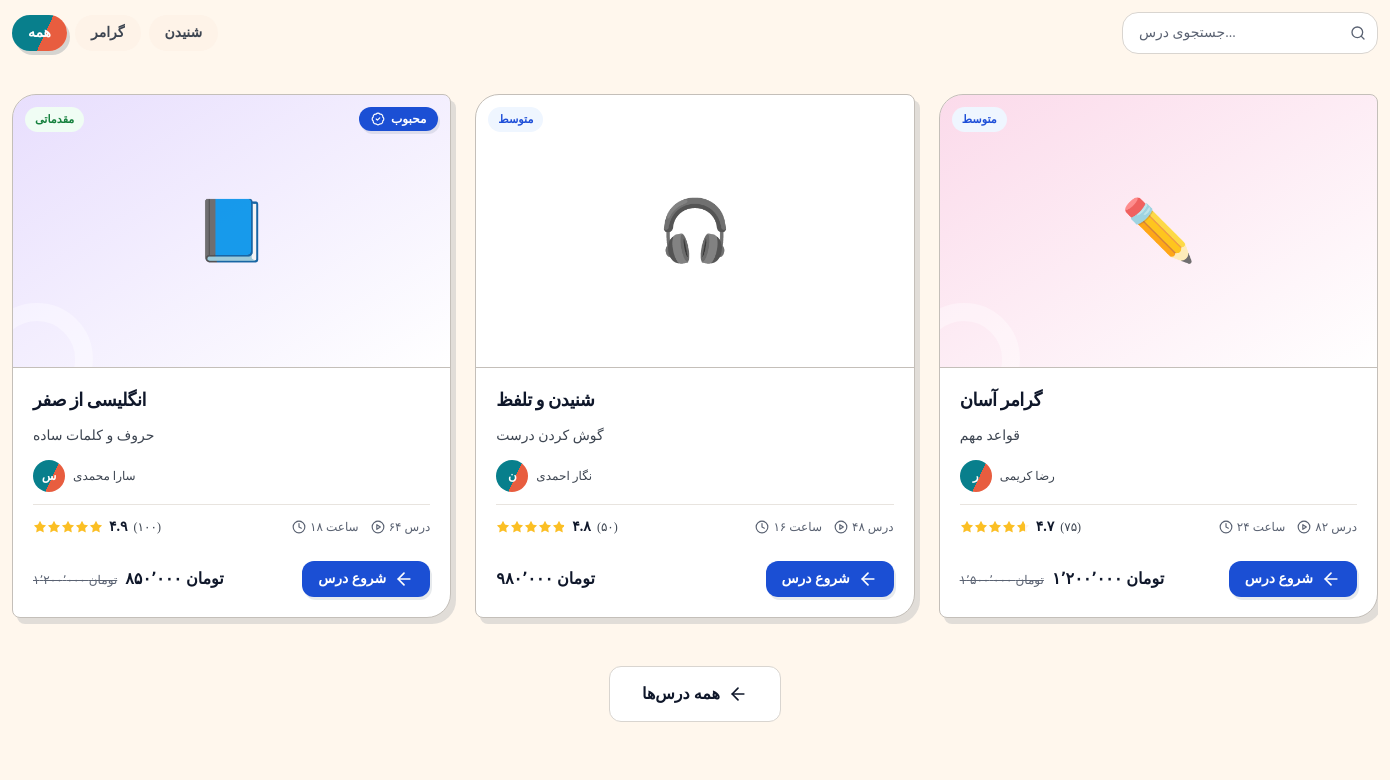
Scenario: PopularCoursesClient › filters courses by category
# Click "شنیدن" filter
What coordinates should you click on to do the following:
click the tab "شنیدن"
I would click on:
 (183, 33)
Its box is [148,15,218,51].
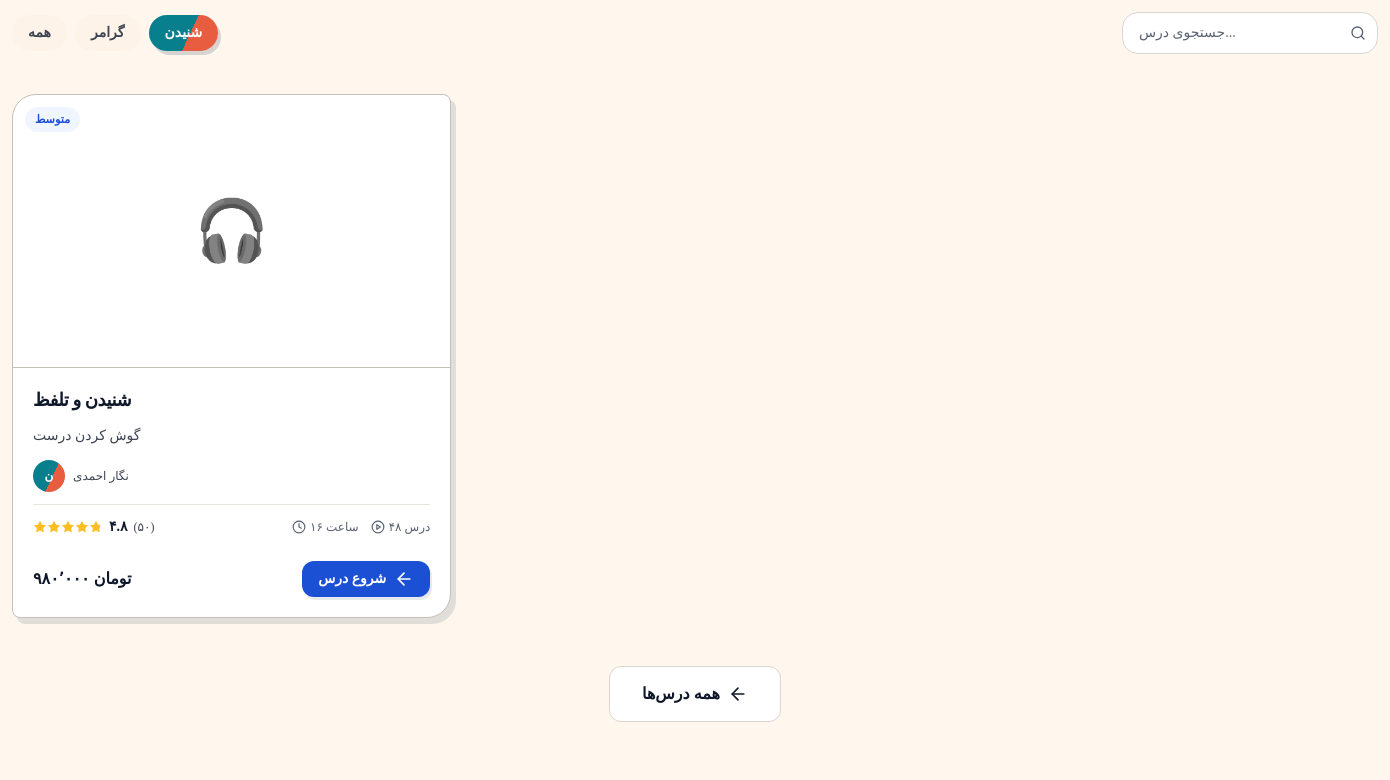
Check: the heading "شنیدن و تلفظ" is shown, box [33,390,131,410]
Check: the heading "انگلیسی از صفر" is gone
Check: the heading "گرامر آسان" is gone
